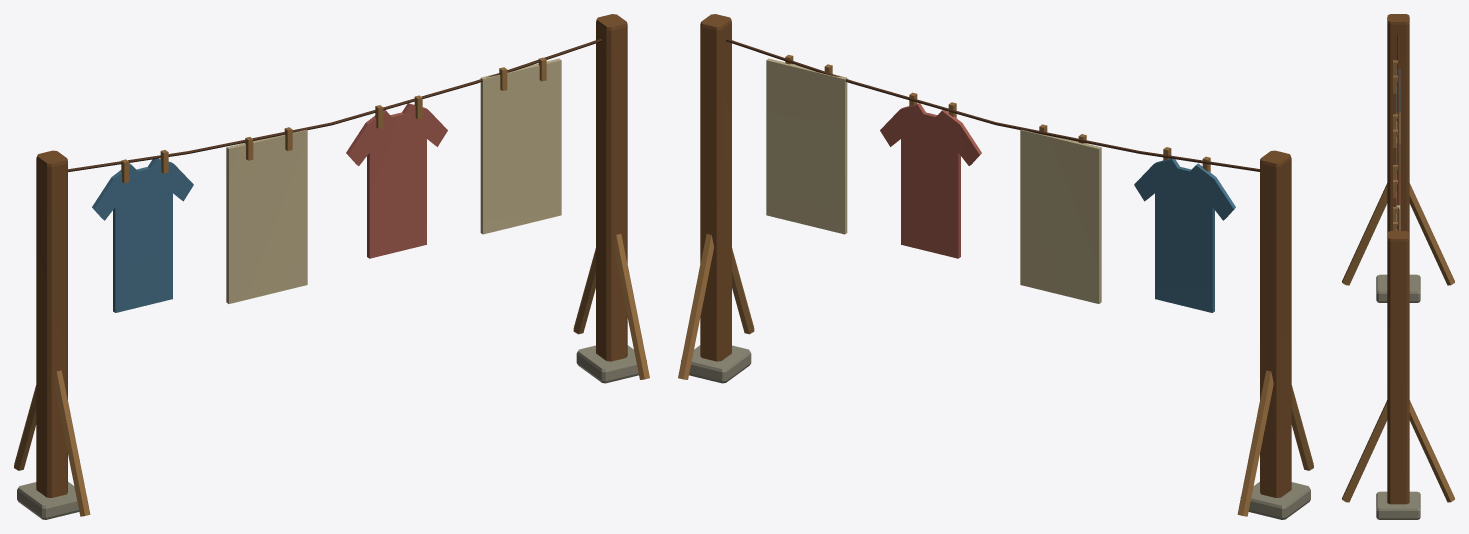
File: Prop_Rural_Clothesline_001.glb
3 renders of one model, left to right at view 1: azimuth 30°, elevation 25°; view 2: azimuth 150°, elevation 25°; view 3: azimuth 270°, elevation 25°, orthographic. The views are drawn at different scales.
Parts seen in each view (by area): view 1: RU_Clothesline_Body; view 2: RU_Clothesline_Body; view 3: RU_Clothesline_Body.
Boxes of the visible parts, x1,y1,x2,y2 form: RU_Clothesline_Body: (14, 14, 649, 519); RU_Clothesline_Body: (678, 14, 1313, 519); RU_Clothesline_Body: (1342, 14, 1454, 519).
Size of the model in its own units: 4 by 2.2 by 0.8127.
